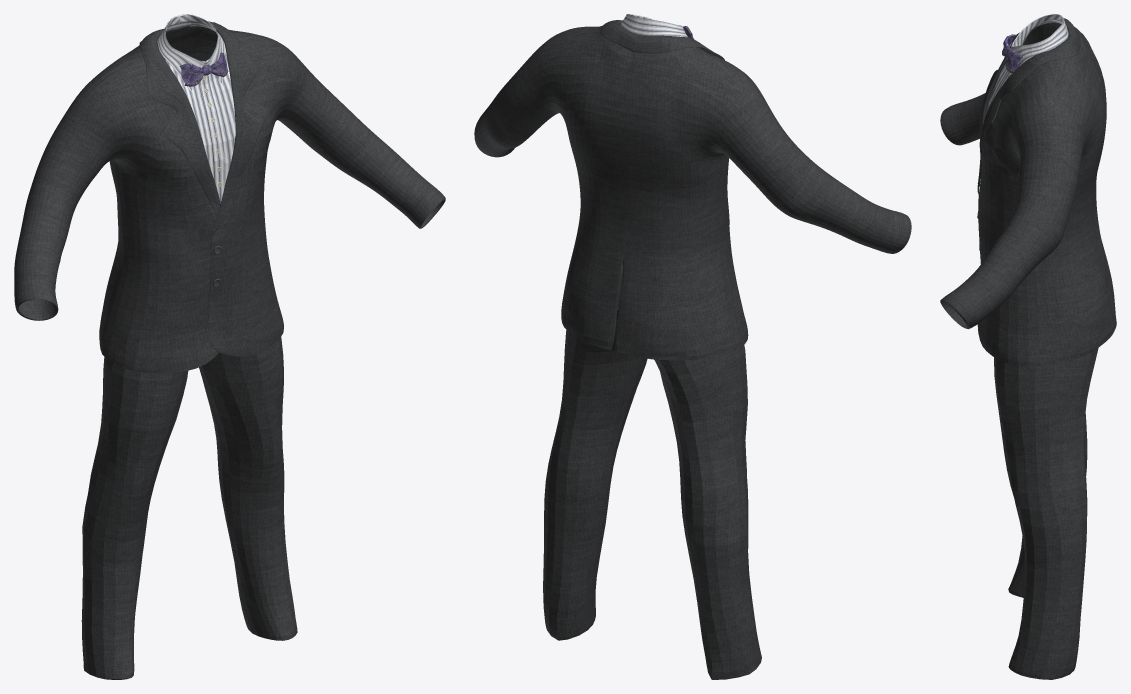
The model's file is garment.glb.
3 views of the same model, side by side, from view 1: azimuth 30°, elevation 25°; view 2: azimuth 150°, elevation 25°; view 3: azimuth 270°, elevation 25° (orthographic). The views are drawn at different scales.
Visible parts, largest first — view 1: garment; view 2: garment; view 3: garment.
Part boxes in pixels (left/top/right/bottom): garment: left=14, top=14, right=445, bottom=679; garment: left=474, top=14, right=911, bottom=679; garment: left=940, top=14, right=1116, bottom=679.
Size of the model in its own units: 10.61 by 14.94 by 3.89.
Materials: 1 (1 with a texture image).
